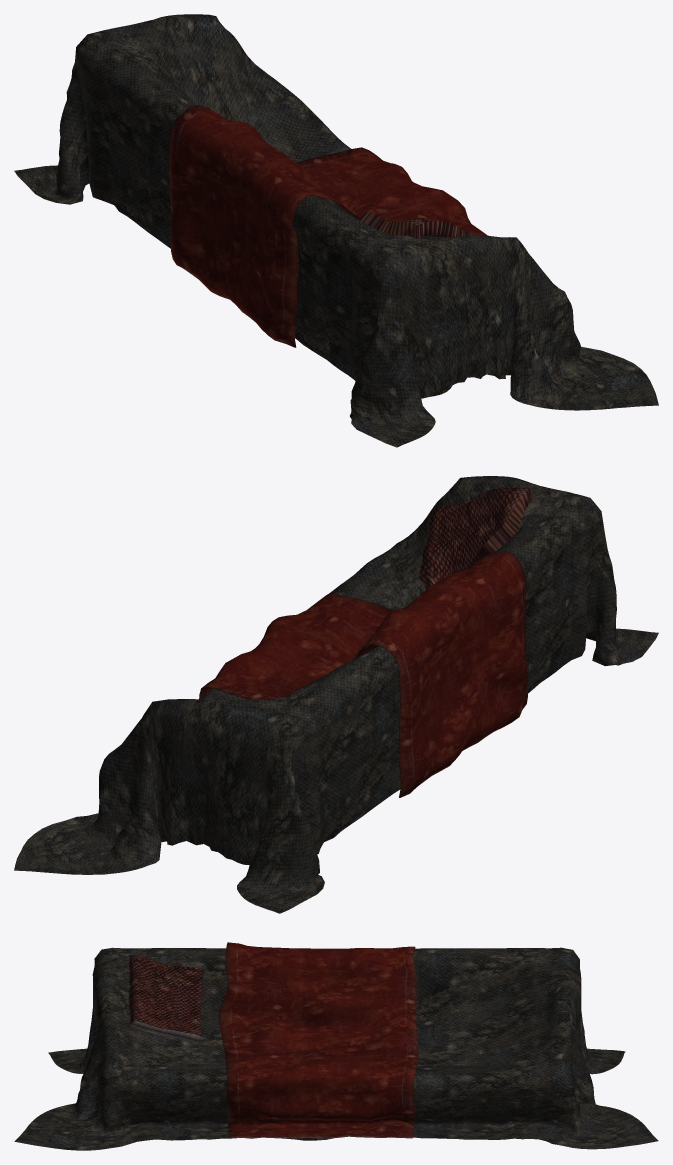
3 renders of one model, top to bottom at view 1: azimuth 30°, elevation 25°; view 2: azimuth 150°, elevation 25°; view 3: azimuth 270°, elevation 25°, orthographic. The views are drawn at different scales.
Visible parts, largest first — view 1: allo; view 2: allo; view 3: allo.
Boxes of the visible parts, x1=… form: allo: x1=14, y1=14, x2=658, y2=447; allo: x1=14, y1=476, x2=658, y2=913; allo: x1=14, y1=942, x2=658, y2=1150.
Size of the model in its own units: 325 by 192 by 864.
1 material, 1 textured.
